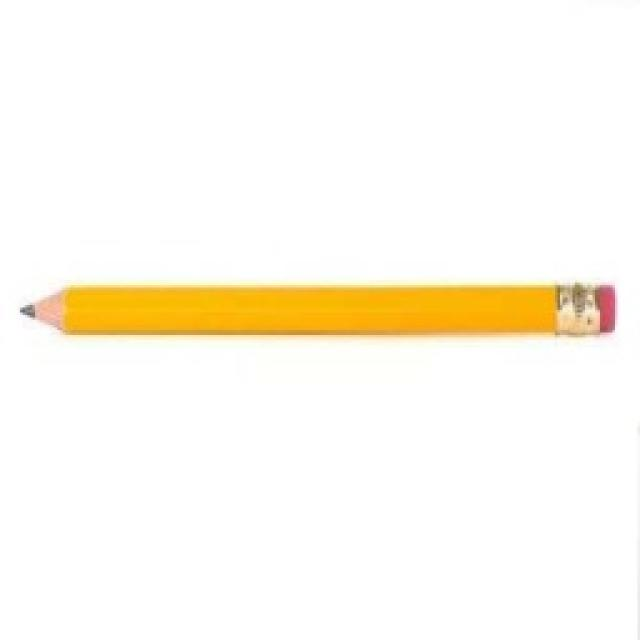pencil: (15, 278, 617, 340)
